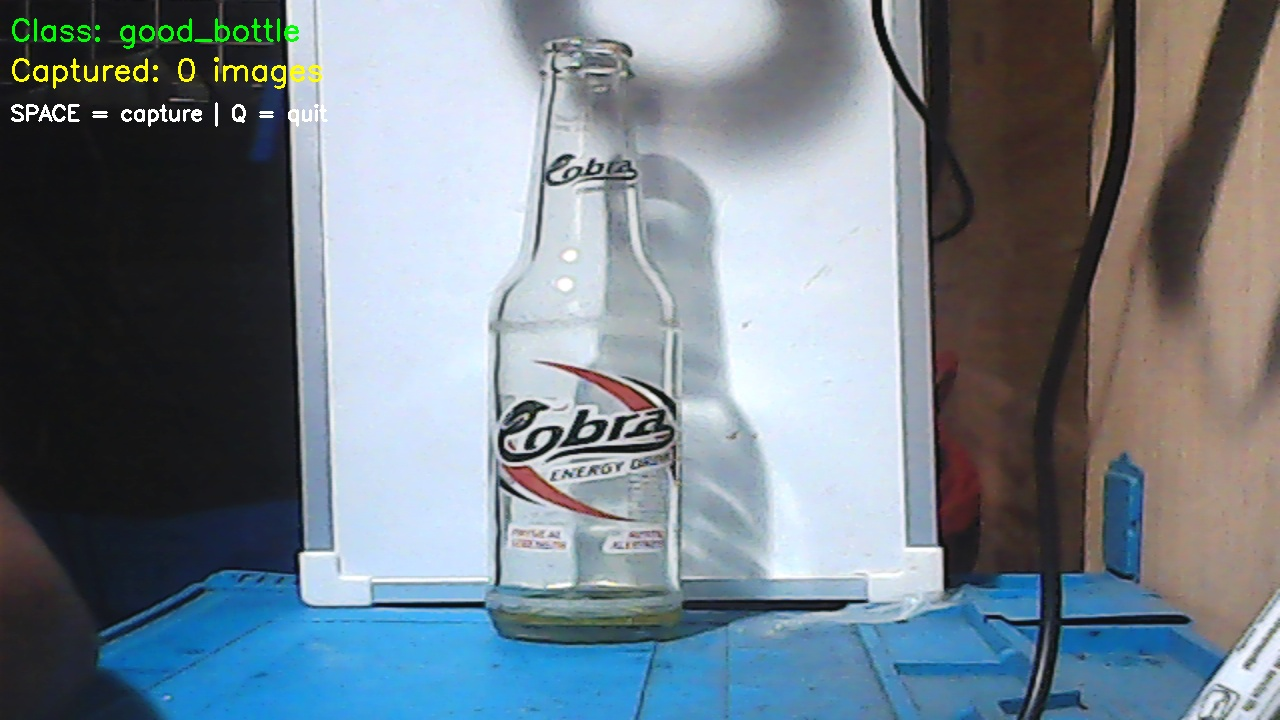good_bottle: (494, 40, 686, 649)
